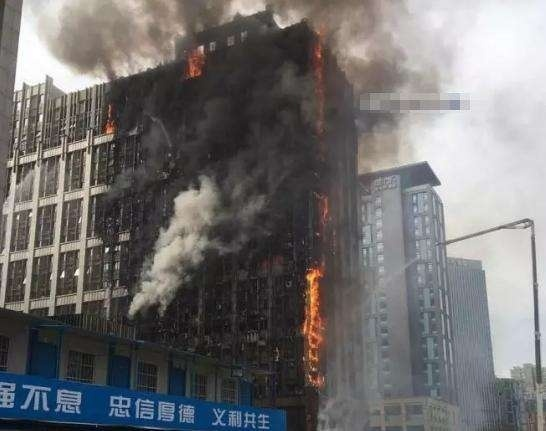fire: (298, 257, 325, 392), (306, 28, 329, 131), (311, 188, 333, 233), (99, 100, 118, 136), (185, 47, 206, 78)
